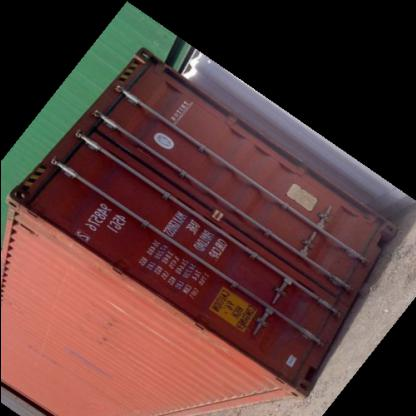Damage: (266, 301, 307, 358), (228, 263, 281, 298), (62, 348, 117, 376), (98, 312, 114, 342)
